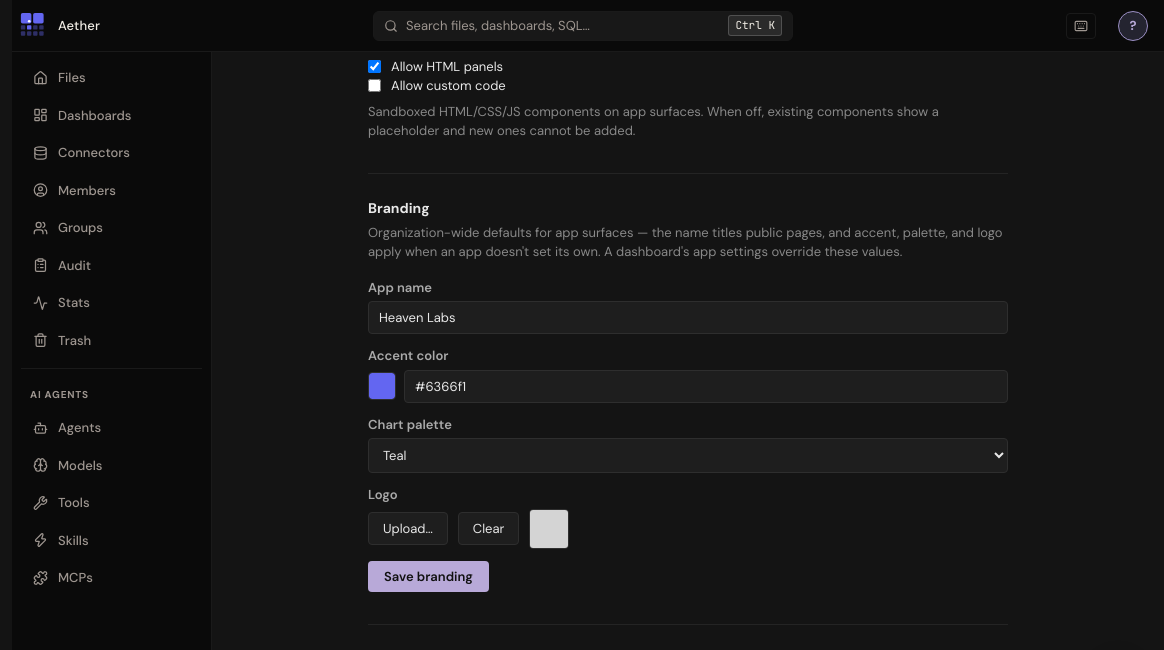
Test: rejects an invalid accent color before saving
The width and height of the screenshot is (1164, 650).
(page scrolled)
Expected: the field labelled "App name" holds "Heaven Labs", x1=368 y1=301 x2=1008 y2=334
In the field labelled "Accent color": (706, 386) x1=404 y1=370 x2=1008 y2=402, type "red"
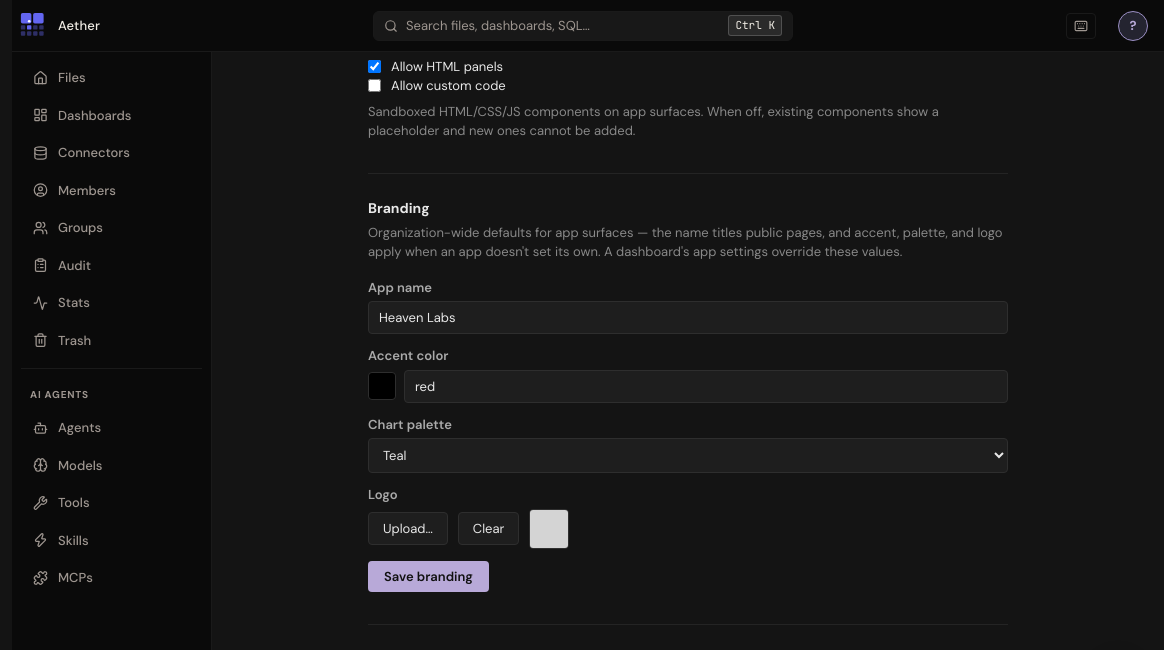
Click the button "Save branding": (428, 576) x1=368 y1=560 x2=489 y2=592
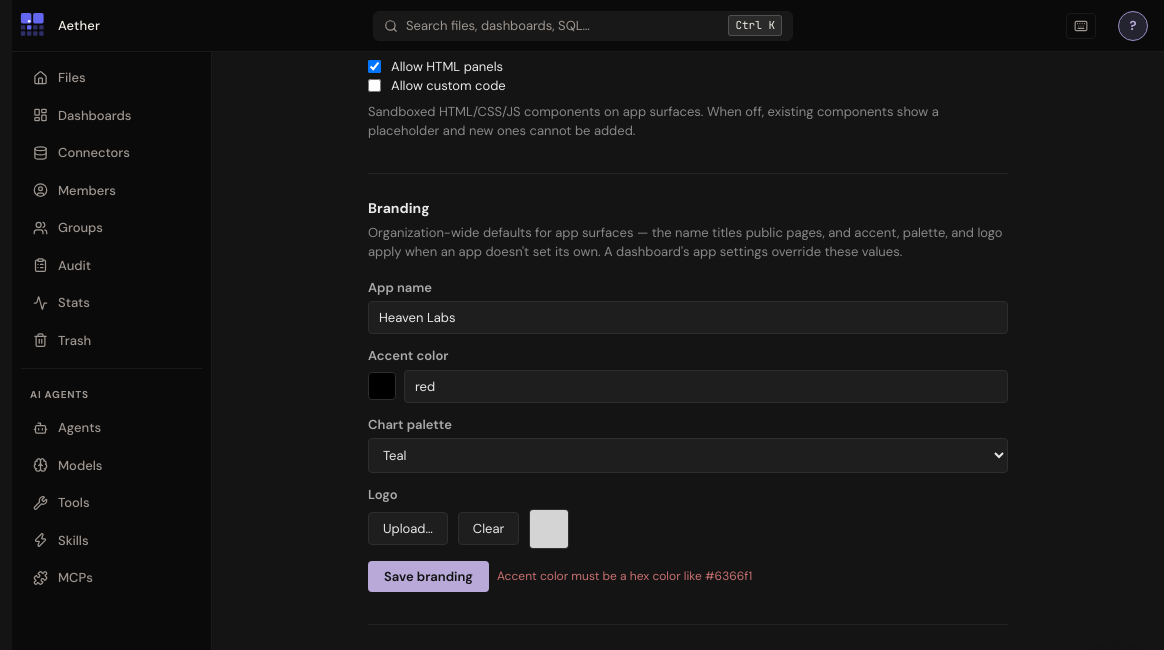
Expected: the message shows "hex color", x1=497 y1=568 x2=752 y2=584
